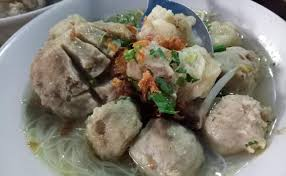bakso: (21, 17, 265, 176)
